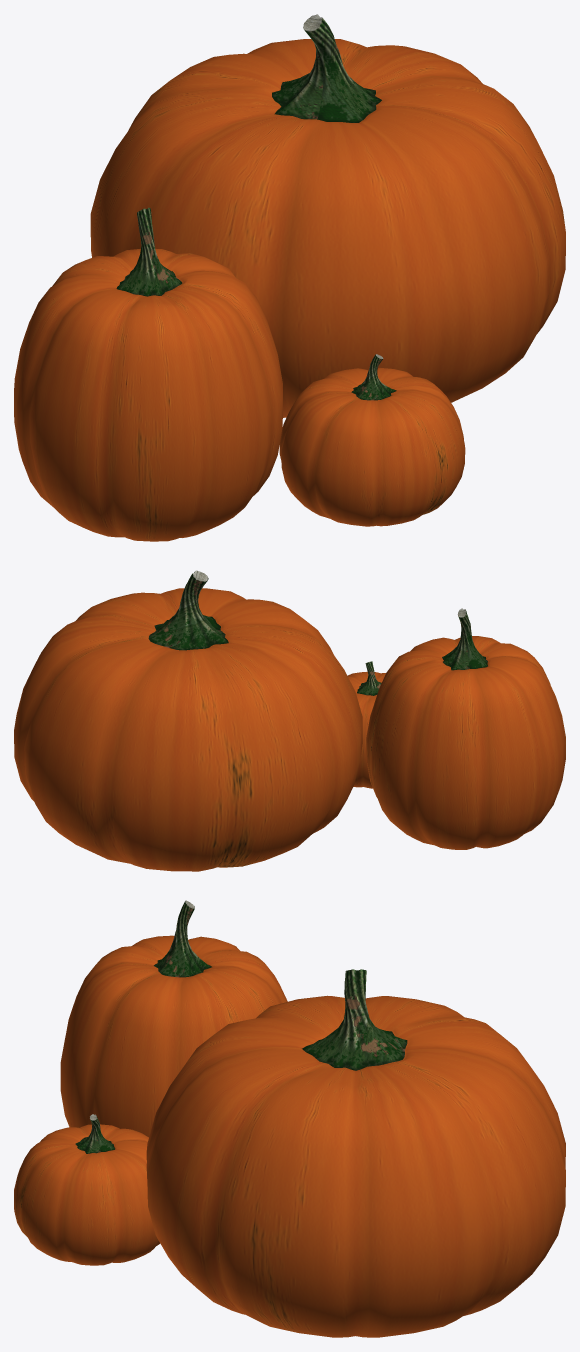
The model's file is pumkins.fbx.
3 views of the same model, one above another, from view 1: azimuth 30°, elevation 25°; view 2: azimuth 150°, elevation 25°; view 3: azimuth 270°, elevation 25° (orthographic). The views are drawn at different scales.
Visible parts, largest first — view 1: pumpkin_lp, pumpkin_lp1, pumpkin_lp2; view 2: pumpkin_lp, pumpkin_lp1, pumpkin_lp2; view 3: pumpkin_lp, pumpkin_lp1, pumpkin_lp2.
Boxes of the visible parts, x1=… form: pumpkin_lp: x1=90, y1=14, x2=565, y2=417; pumpkin_lp1: x1=14, y1=207, x2=282, y2=541; pumpkin_lp2: x1=279, y1=354, x2=465, y2=526; pumpkin_lp: x1=14, y1=570, x2=362, y2=871; pumpkin_lp1: x1=366, y1=608, x2=565, y2=849; pumpkin_lp2: x1=347, y1=661, x2=385, y2=788; pumpkin_lp: x1=146, y1=969, x2=565, y2=1337; pumpkin_lp1: x1=60, y1=900, x2=287, y2=1137; pumpkin_lp2: x1=14, y1=1114, x2=160, y2=1265.
Size of the model in its own units: 10.25 by 5.91 by 9.18.
